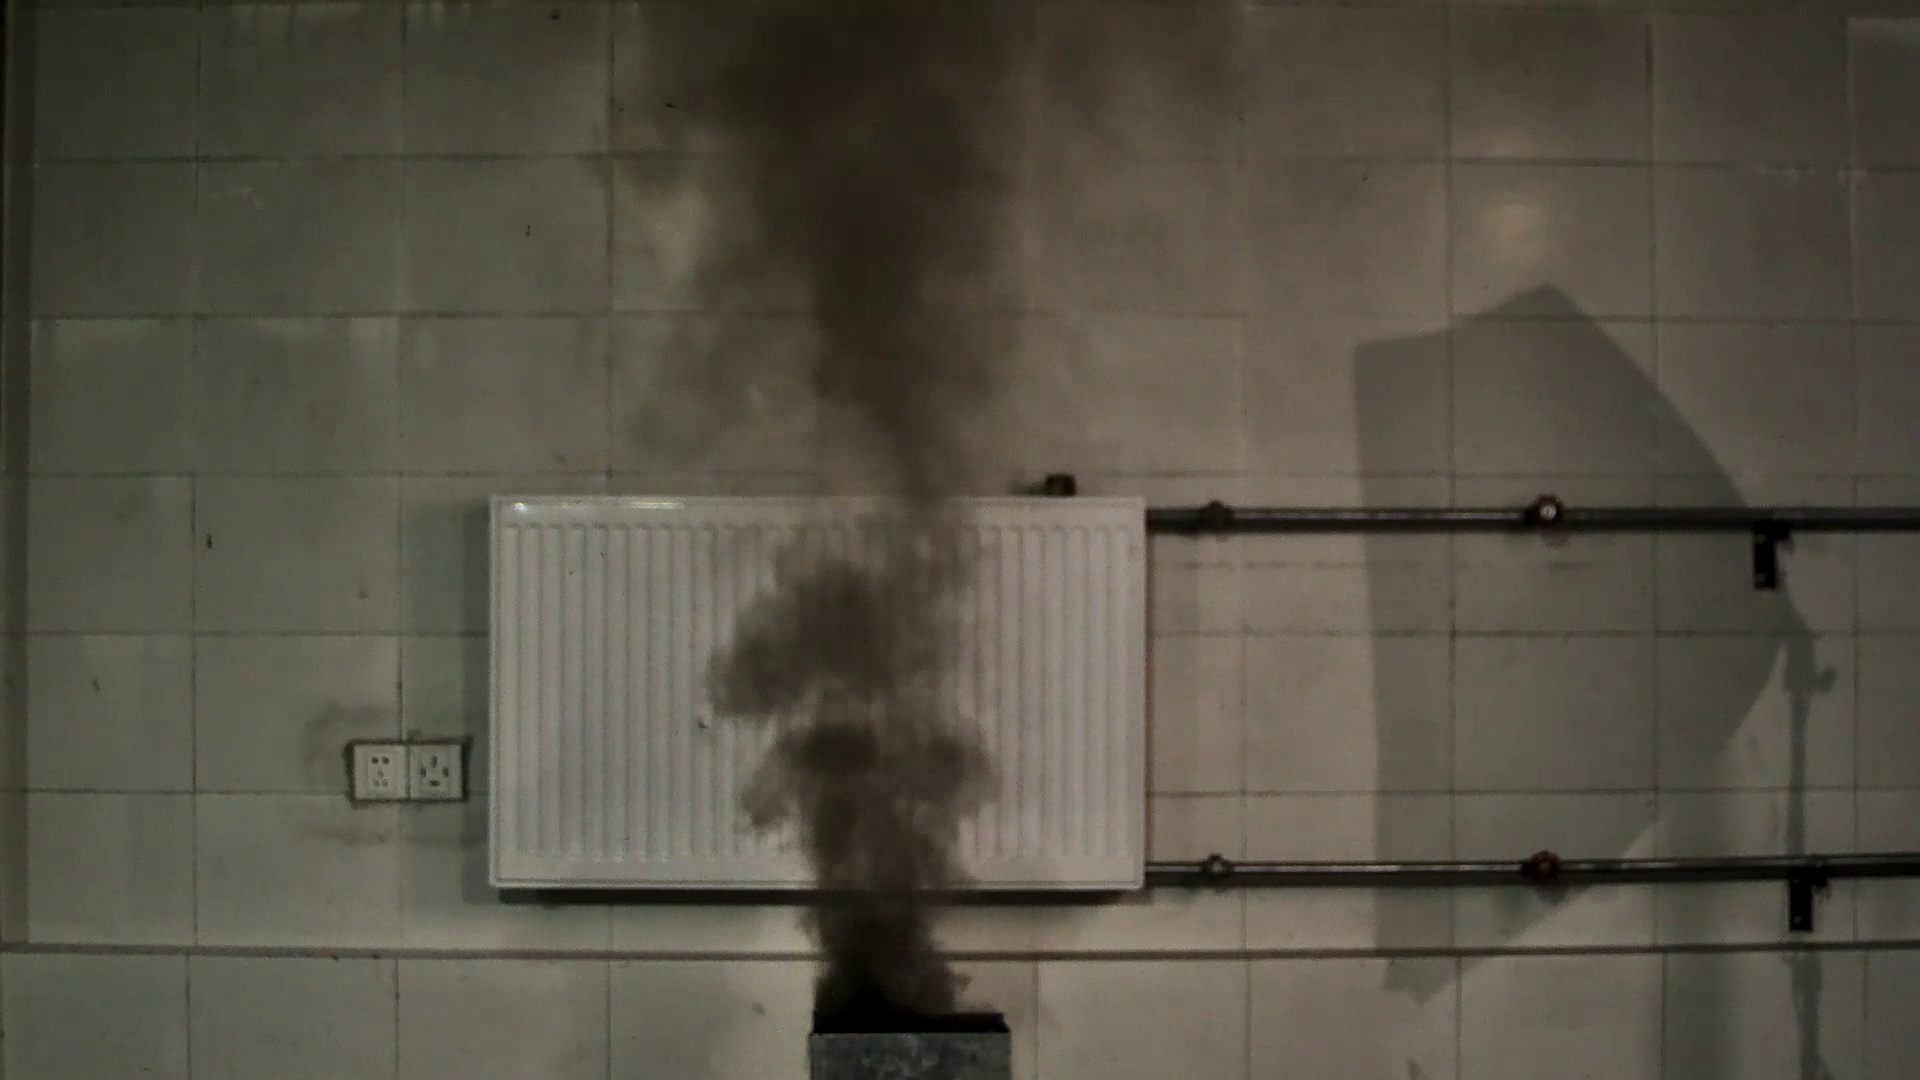smoke: (658, 161, 1071, 1018)
